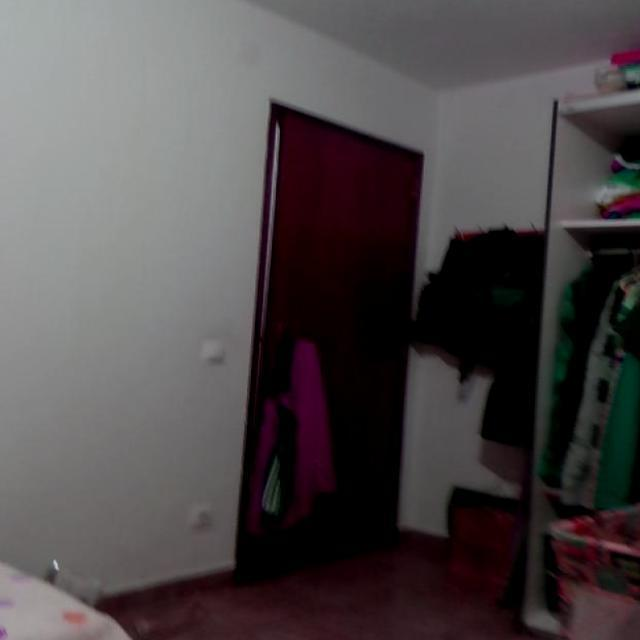door: (232, 99, 425, 583)
